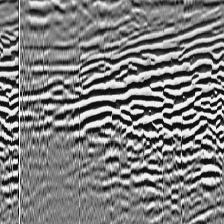cavities: (74, 34, 224, 190)
